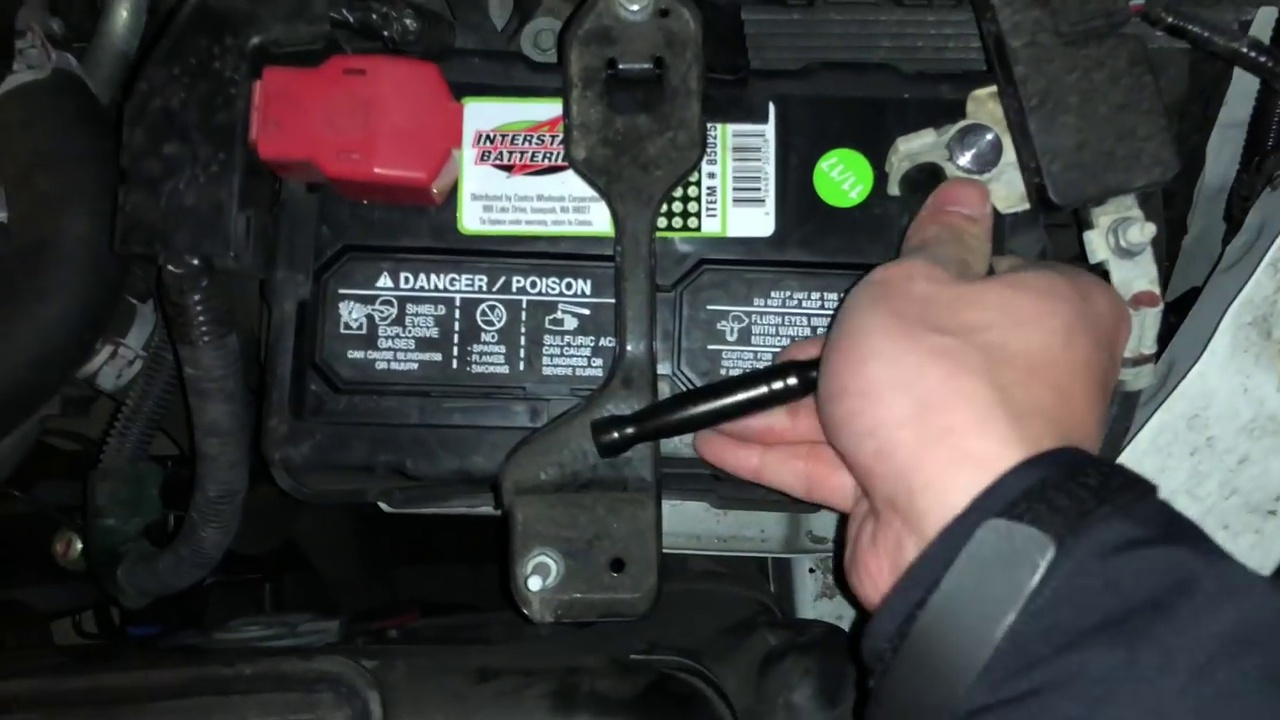battery: (255, 57, 1029, 541)
neg_connected: (863, 70, 1026, 220)
neg_touched: (871, 91, 1043, 387)
pos_connected: (225, 52, 477, 208)
